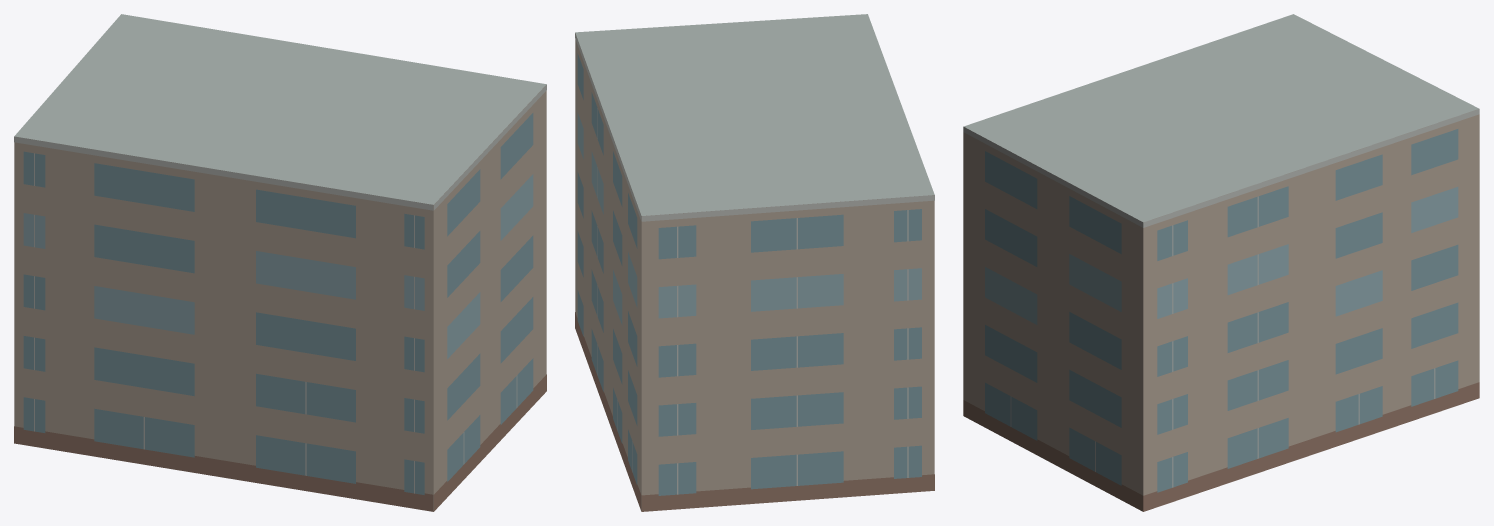
Rendered from survey-upis-32740694.glb.
3 views of the same model, side by side, from view 1: azimuth 30°, elevation 25°; view 2: azimuth 150°, elevation 25°; view 3: azimuth 270°, elevation 25° (orthographic). The views are drawn at different scales.
Visible parts, largest first — view 1: survey-upis-32740694.tmp; view 2: survey-upis-32740694.tmp; view 3: survey-upis-32740694.tmp.
Boxes of the visible parts, <box> form: survey-upis-32740694.tmp: <box>14,14,546,511</box>; survey-upis-32740694.tmp: <box>575,14,934,511</box>; survey-upis-32740694.tmp: <box>963,14,1479,511</box>.
Size of the model in its own units: 19.62 by 12.7 by 20.53.
